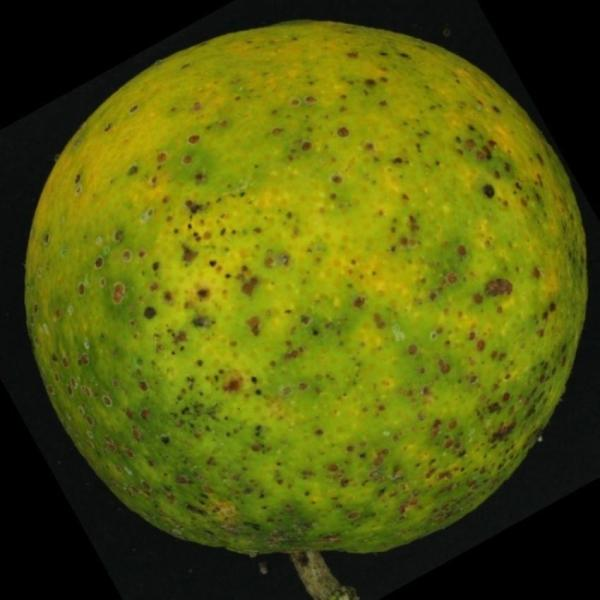Greening: (13, 9, 590, 570)
